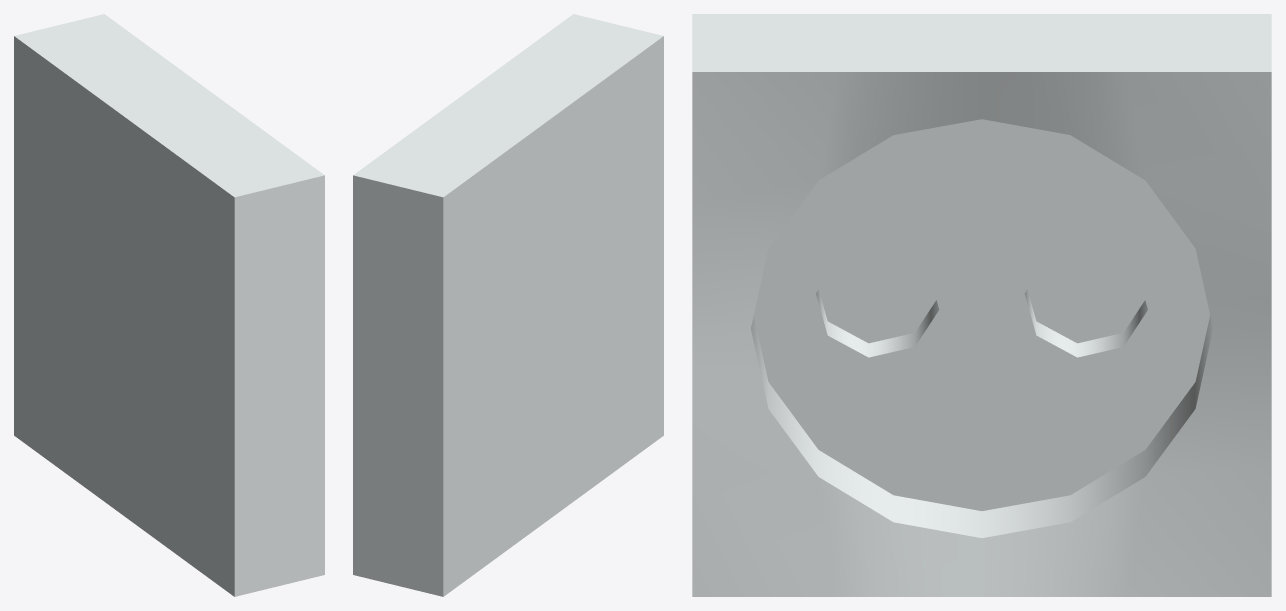
Rendered from PriseElectrique.fbx.
3 views of the same model, side by side, from view 1: azimuth 30°, elevation 25°; view 2: azimuth 150°, elevation 25°; view 3: azimuth 270°, elevation 25° (orthographic). The views are drawn at different scales.
Visible parts, largest first — view 1: Cube.001; view 2: Cube.001; view 3: Cube.001.
Part boxes in pixels (x1=…): Cube.001: x1=14, y1=14, x2=324, y2=596; Cube.001: x1=353, y1=14, x2=663, y2=596; Cube.001: x1=692, y1=14, x2=1271, y2=596.
Bounding box in the file's own units: 5.19 × 21.92 × 21.92.
